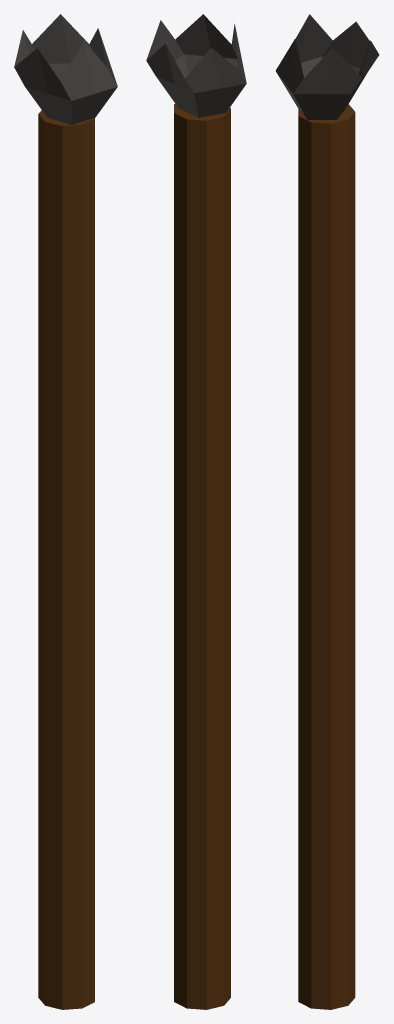
File: soihtu.fbx
3 views of the same model, side by side, from view 1: azimuth 90°, elevation 25°; view 2: azimuth 150°, elevation 25°; view 3: azimuth 270°, elevation 25° (orthographic).
Visible parts, largest first — view 1: Cylinder; view 2: Cylinder; view 3: Cylinder.
Part boxes in pixels (x1,y1,x2,y2): Cylinder: (14,14,117,1009); Cylinder: (146,14,246,1009); Cylinder: (275,14,379,1009).
Bounding box in the file's own units: 18.98 × 219 × 21.28.
